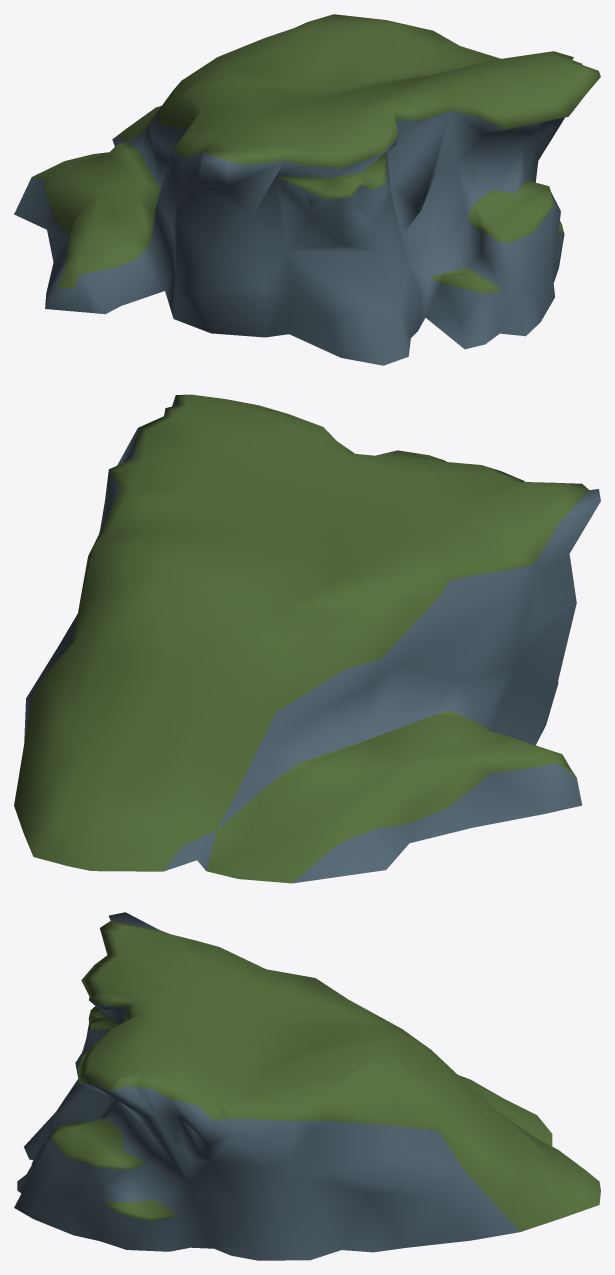
File: Clif_2  Asia.fbx
The picture shows the model from 3 angles, top to bottom: view 1: azimuth 30°, elevation 25°; view 2: azimuth 150°, elevation 25°; view 3: azimuth 270°, elevation 25°; orthographic projection. The views are drawn at different scales.
Visible parts, largest first — view 1: Clif_2; view 2: Clif_2; view 3: Clif_2.
Part boxes in pixels (x1,y1,x2,y2): Clif_2: (14,14,600,365); Clif_2: (14,394,600,883); Clif_2: (14,912,600,1260).
Size of the model in its own units: 1843 by 749 by 2165.
